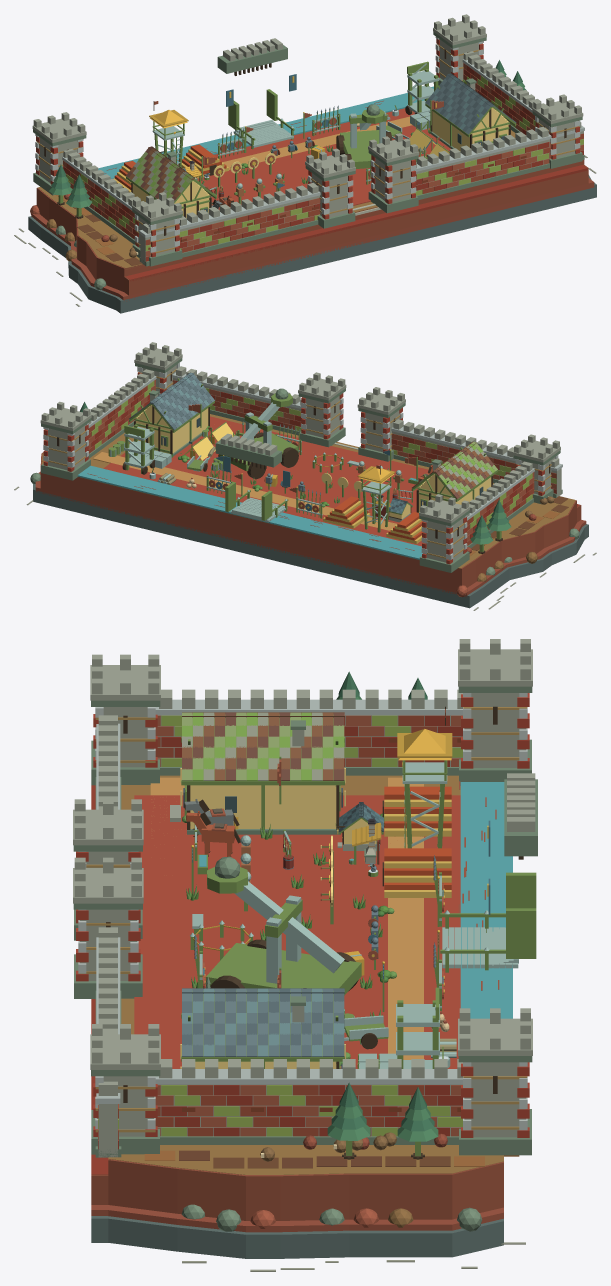
File: 03_Garrison.fbx
The picture shows the model from 3 angles, top to bottom: view 1: azimuth 30°, elevation 25°; view 2: azimuth 150°, elevation 25°; view 3: azimuth 270°, elevation 25°; orthographic projection. The views are drawn at different scales.
Parts seen in each view (by area): view 1: GroundAndDetails_2_-2, GroundAndDetails_2_-5, GroundAndDetails_2_-4, wall_0103, wall_0105, house_0220, tower_0106, house_0213, wall_0210, tower_0104, wall_0217, tower_0211 (+12 smaller); view 2: GroundAndDetails_2_-6, GroundAndDetails_2_-5, GroundAndDetails_2_-4, house_0220, wall_0103, wall_0105, tower_0212, house_0213, tower_0219, tower_0106, wall_0217, GroundAndDetails_2_-3 (+14 smaller); view 3: GroundAndDetails_2_-4, GroundAndDetails_2_-5, wall_0217, house_0213, wall_0210, house_0220, GroundAndDetails_2_-3, tower_0219, GroundAndDetails_2_-2, siege_0237, tower_0212, tower_0106 (+13 smaller).
Boxes of the visible parts, x1,y1,x2,y2 form: GroundAndDetails_2_-2: (75,160,596,313); GroundAndDetails_2_-5: (14,61,439,253); GroundAndDetails_2_-4: (52,108,450,276); wall_0103: (139,182,320,266); wall_0105: (415,122,584,199); house_0220: (425,73,516,151); tower_0106: (368,133,419,213); house_0213: (126,146,216,217); wall_0210: (62,149,144,244); tower_0104: (305,148,355,228); wall_0217: (462,51,544,134); tower_0211: (132,192,182,266); GroundAndDetails_2_-6: (26,462,478,610); GroundAndDetails_2_-5: (14,424,508,609); GroundAndDetails_2_-4: (100,416,546,586); house_0220: (129,372,214,456); wall_0103: (391,419,562,497); wall_0105: (172,366,301,435); tower_0212: (419,494,469,572); house_0213: (411,441,497,512); tower_0219: (40,401,91,480); tower_0106: (298,372,346,447); wall_0217: (87,369,156,458); GroundAndDetails_2_-3: (133,421,584,571); GroundAndDetails_2_-4: (134,775,460,1269); GroundAndDetails_2_-5: (383,775,512,1268); wall_0217: (155,1059,462,1144); house_0213: (170,712,345,834); wall_0210: (155,689,462,775); house_0220: (180,988,345,1068); GroundAndDetails_2_-3: (177,775,280,1271); tower_0219: (458,1008,532,1155); GroundAndDetails_2_-2: (91,775,184,1251); siege_0237: (206,856,361,995); tower_0212: (458,639,532,785); tower_0106: (73,857,143,998).
Bounding box in the file's own units: 67.83 × 14.94 × 27.03.
1 material, 1 textured.
